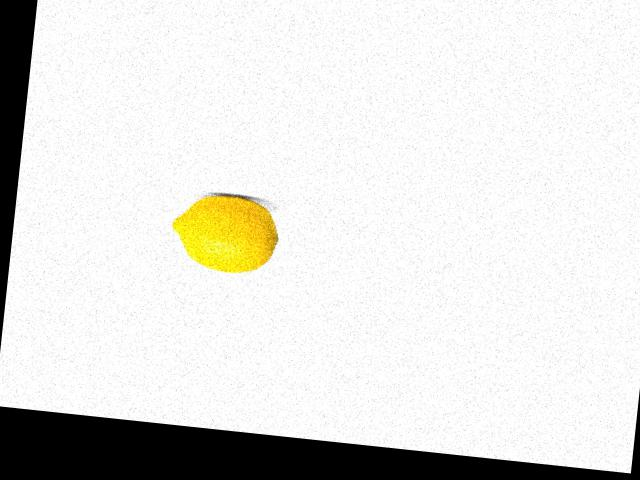lemon: (164, 189, 287, 275)
